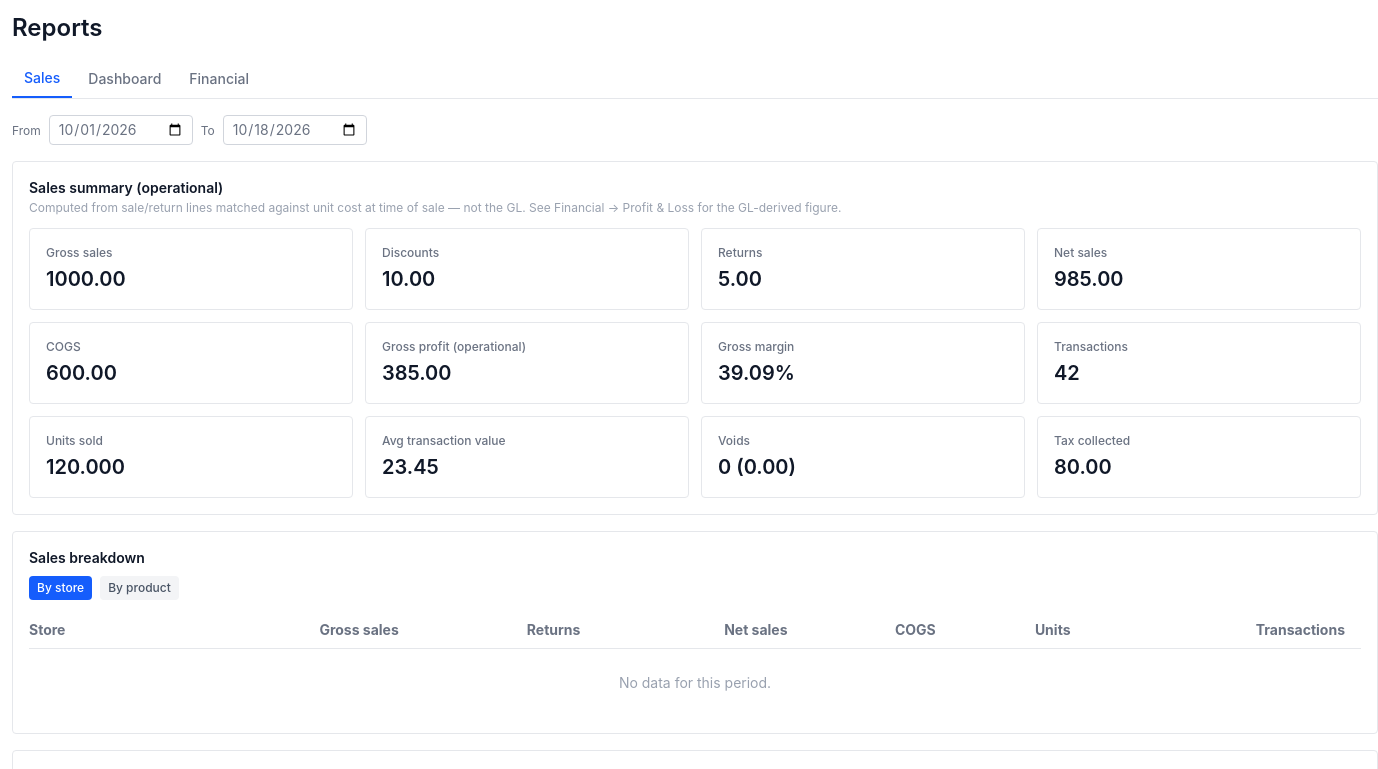
Test: ReportsPage › shows the operational sales summary distinctly labeled from GL-derived P&L
expect the heading "Reports" is shown: met, box [12,13,103,42]
expect the text "385.00" is shown: met, box [382,361,452,385]
Click the button "Financial" at {"x": 219, "y": 79}, box [177,60,261,98]
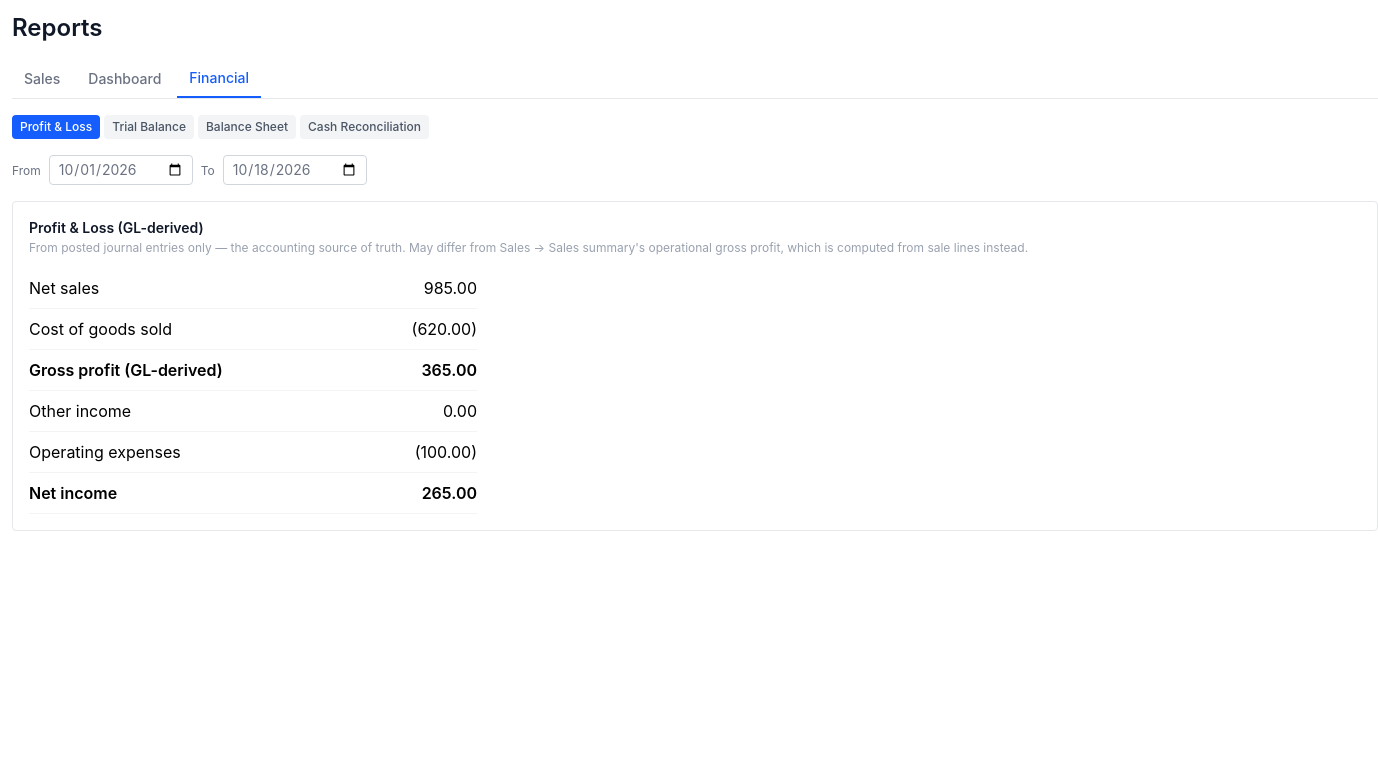
expect the text "365.00" is shown: met, box [421,358,477,382]
expect the text "Gross profit (GL-derived)" is shown: met, box [29,358,223,382]
expect the text "385.00" is gone: met
